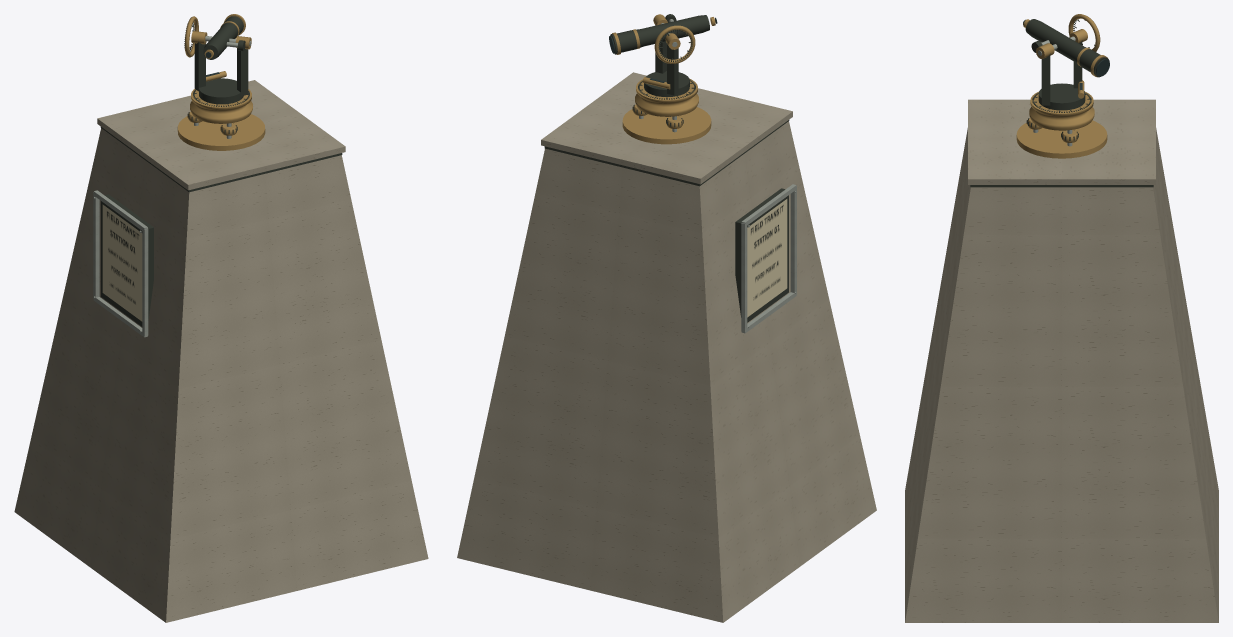
The model's file is SM_FieldKit_Transit.glb.
The picture shows the model from 3 angles, left to right: view 1: azimuth 30°, elevation 25°; view 2: azimuth 150°, elevation 25°; view 3: azimuth 270°, elevation 25°; orthographic projection. The views are drawn at different scales.
Visible parts, largest first — view 1: SM_FieldKit_Transit; view 2: SM_FieldKit_Transit; view 3: SM_FieldKit_Transit.
Part boxes in pixels (left/top/right/bottom): SM_FieldKit_Transit: left=14, top=14, right=428, bottom=622; SM_FieldKit_Transit: left=457, top=14, right=876, bottom=622; SM_FieldKit_Transit: left=905, top=14, right=1218, bottom=622.
Size of the model in its own units: 0.9 by 1.68 by 0.9.
6 materials, 3 textured.
